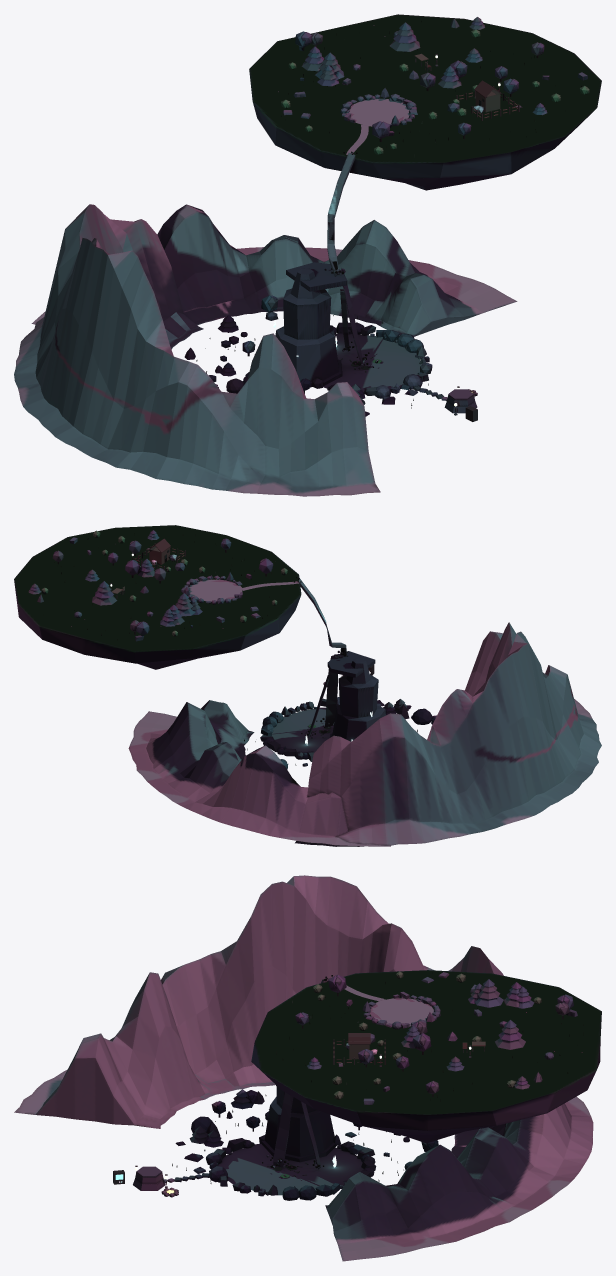
Rendered from landmark-skills.glb.
3 renders of one model, top to bottom at view 1: azimuth 30°, elevation 25°; view 2: azimuth 150°, elevation 25°; view 3: azimuth 270°, elevation 25°, orthographic. The views are drawn at different scales.
Visible parts, largest first — view 1: skl_mountain_ridge, skl_floating_island, skl_mountain_side_ridge, skl_cliff_merged, skl_water_merged, skl_trees_island_merged, skl_rocks_merged, skl_waterfall_merged, skl_trees_ground_merged, skl_shrubs_merged; view 2: skl_mountain_ridge, skl_floating_island, skl_mountain_side_ridge, skl_water_merged, skl_cliff_merged, skl_trees_island_merged, skl_rocks_merged, skl_waterfall_merged, skl_shrubs_merged; view 3: skl_mountain_ridge, skl_floating_island, skl_mountain_side_ridge, skl_water_merged, skl_rocks_merged, skl_trees_island_merged, skl_cliff_merged, skl_trees_ground_merged, skl_waterfall_merged, skl_shrubs_merged, skl_pedestal_merged.
Boxes of the visible parts, <box> form: skl_mountain_ridge: <box>14,204,380,496</box>; skl_floating_island: <box>249,14,601,190</box>; skl_mountain_side_ridge: <box>31,204,517,336</box>; skl_cliff_merged: <box>275,262,347,387</box>; skl_water_merged: <box>323,88,421,392</box>; skl_trees_island_merged: <box>295,17,547,141</box>; skl_rocks_merged: <box>184,18,587,416</box>; skl_waterfall_merged: <box>327,153,363,368</box>; skl_trees_ground_merged: <box>216,295,365,404</box>; skl_shrubs_merged: <box>281,29,589,154</box>; skl_mountain_ridge: <box>295,622,601,846</box>; skl_floating_island: <box>14,525,301,669</box>; skl_mountain_side_ridge: <box>128,700,390,846</box>; skl_water_merged: <box>181,572,334,752</box>; skl_cliff_merged: <box>327,651,385,741</box>; skl_trees_island_merged: <box>28,530,273,635</box>; skl_rocks_merged: <box>37,537,432,766</box>; skl_waterfall_merged: <box>298,579,346,737</box>; skl_shrubs_merged: <box>41,530,287,636</box>; skl_mountain_ridge: <box>14,875,503,1128</box>; skl_floating_island: <box>251,970,601,1143</box>; skl_mountain_side_ridge: <box>325,1096,593,1261</box>; skl_water_merged: <box>218,980,440,1195</box>; skl_rocks_merged: <box>164,972,577,1200</box>; skl_trees_island_merged: <box>295,975,573,1096</box>; skl_cliff_merged: <box>261,1086,336,1162</box>; skl_trees_ground_merged: <box>189,1085,438,1151</box>; skl_waterfall_merged: <box>273,978,330,1168</box>; skl_shrubs_merged: <box>313,971,541,1099</box>; skl_pedestal_merged: <box>133,1166,165,1190</box>.
Bounding box in the file's own units: 80.16 × 29.82 × 69.07.
Materials: 47 (41 with a texture image).
